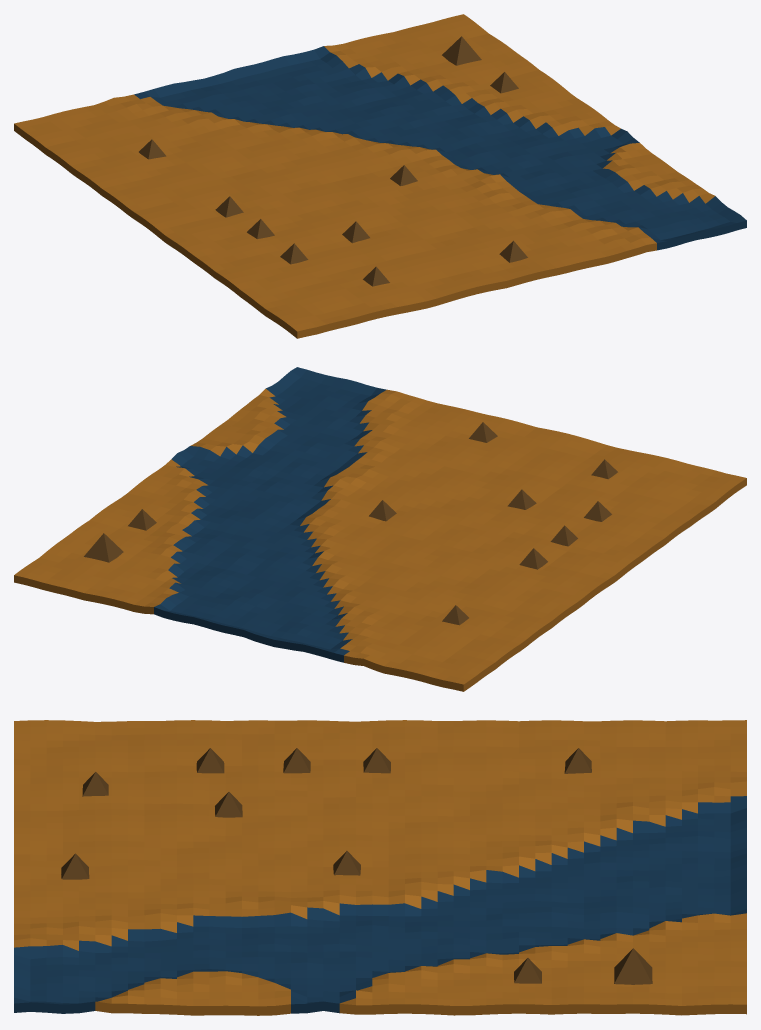
The model's file is Egypt_East.obj.
3 renders of one model, top to bottom at view 1: azimuth 30°, elevation 25°; view 2: azimuth 150°, elevation 25°; view 3: azimuth 270°, elevation 25°, orthographic. The views are drawn at different scales.
Visible parts, largest first — view 1: Plane.004, Cube.305_Cube.310; view 2: Plane.004, Cube.305_Cube.310; view 3: Plane.004, Cube.305_Cube.310, Cube.003, Cube.304_Cube.309, Cube.204_Cube.206, Cube.205_Cube.207, Cube.000, Cube.001, Cube.004, Cube.002.
Part boxes in pixels (left/top/right/bottom): Plane.004: left=14, top=14, right=746, bottom=338; Cube.305_Cube.310: left=442, top=36, right=481, bottom=65; Plane.004: left=14, top=367, right=746, bottom=691; Cube.305_Cube.310: left=84, top=533, right=123, bottom=562; Plane.004: left=14, top=720, right=746, bottom=1015; Cube.305_Cube.310: left=614, top=948, right=652, bottom=984; Cube.003: left=61, top=853, right=89, bottom=879; Cube.304_Cube.309: left=514, top=958, right=541, bottom=983; Cube.204_Cube.206: left=215, top=792, right=242, bottom=817; Cube.205_Cube.207: left=196, top=748, right=224, bottom=773; Cube.000: left=283, top=748, right=310, bottom=773; Cube.001: left=363, top=748, right=390, bottom=773; Cube.004: left=564, top=748, right=591, bottom=773; Cube.002: left=333, top=851, right=360, bottom=875.
Size of the model in its own units: 983 by 62.87 by 1071.
